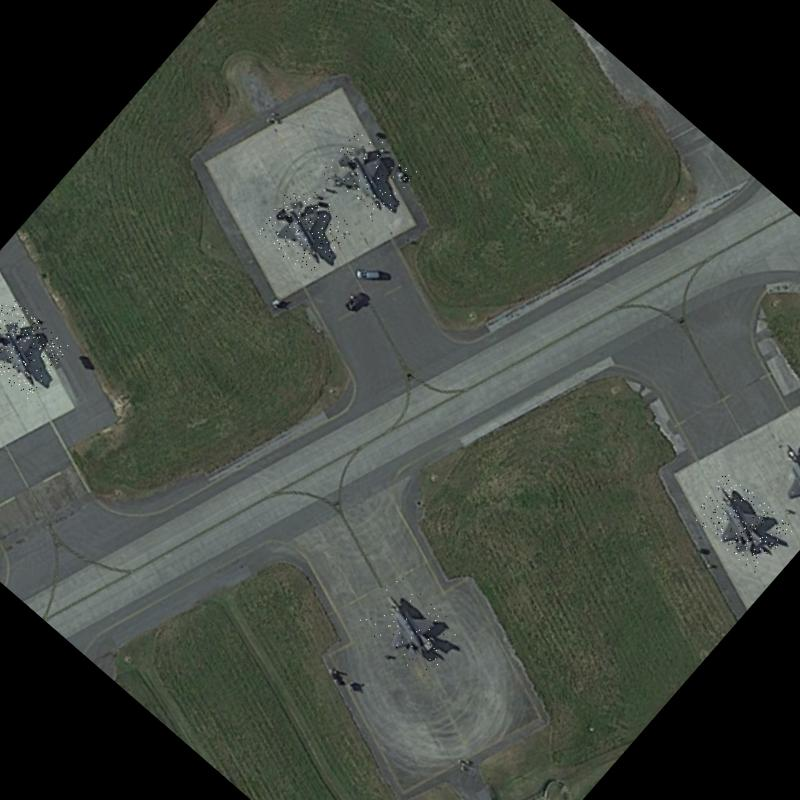A15: (358, 574, 466, 680), (688, 471, 794, 575), (318, 123, 423, 226), (252, 178, 356, 280), (0, 295, 71, 400), (754, 428, 800, 525)
